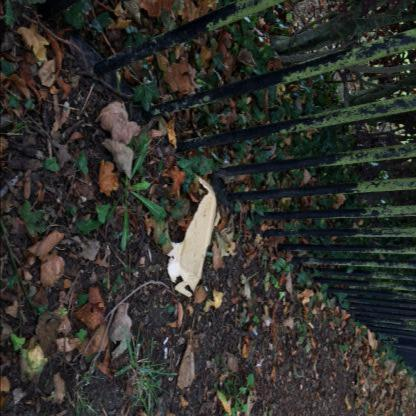Plastic container: (167, 177, 220, 297)
